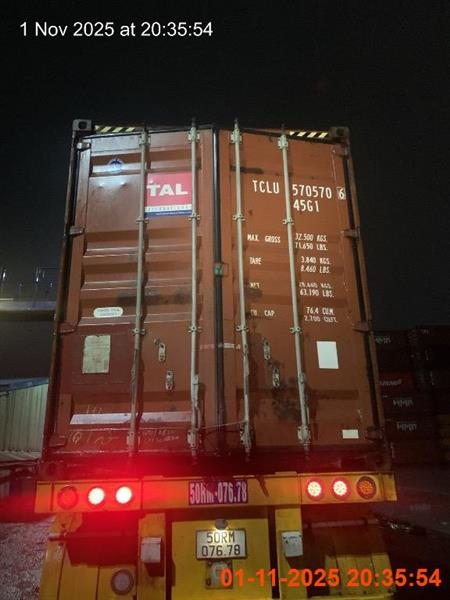dent: (27, 122, 401, 599)
